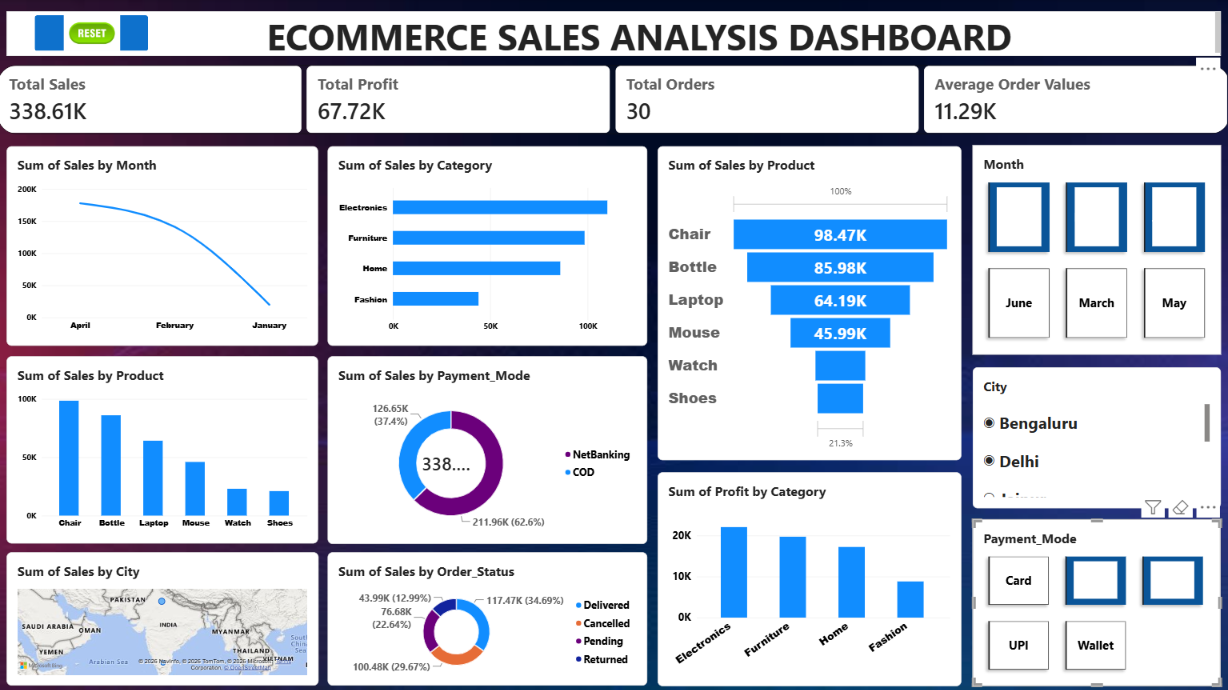

What the dashboard file says about the page in this screenshot:
{"tool":"powerbi","page":{"name":"Page 1","canvas":[1920,1080],"ordinal":0},"visuals":[{"type":"cardVisual","fields":{"Data":["Dax measures.Total Sales","Dax measures.Total Profit","Dax measures.Total Orders","Dax measures.Average Order Values"]},"box":[0,102.9,1920.4,107],"z":0},{"type":"textbox","box":[14.4,18.5,1891.6,70],"z":1000},{"type":"lineChart","title":"Sum of Sales by Month ","fields":{"Category":["public order.Month"],"Y":["Sum(public order.Sales)"]},"box":[14.4,228.5,485.8,310.8],"z":2000},{"type":"barChart","fields":{"Category":["public order.Category"],"Y":["Sum(public order.Sales)"]},"box":[514.6,228.5,498.1,310.8],"z":3000},{"type":"columnChart","fields":{"Category":["public order.Product"],"Y":["Sum(public order.Sales)"]},"box":[14.4,555.7,485.8,292.3],"z":4000},{"type":"map","fields":{"Category":["public order.City"],"Size":["Sum(public order.Sales)"]},"box":[14.4,862.4,486,208],"z":5000},{"type":"donutChart","fields":{"Category":["public order.Payment_Mode"],"Y":["Sum(public order.Sales)"]},"box":[514.6,555.7,498.1,293],"z":6000},{"type":"pieChart","fields":{"Category":["public order.Order_Status"],"Y":["Sum(public order.Sales)"]},"box":[514.6,862.4,498.1,207.9],"z":7000},{"type":"funnel","fields":{"Category":["public order.Product"],"Y":["Sum(public order.Sales)"]},"box":[1029.2,228.5,473.4,489.9],"z":8000},{"type":"columnChart","fields":{"Category":["public order.Category"],"Y":["Sum(public order.Profit)"]},"box":[1029.2,736.9,473.4,333.4],"z":9000},{"type":"advancedSlicerVisual","fields":{"Values":["public order.Month"]},"box":[1520.3,227.7,387,326.3],"z":10000},{"type":"listSlicer","fields":{"Values":["public order.City"]},"box":[1520.3,574.2,387,220.1],"z":11000},{"type":"advancedSlicerVisual","fields":{"Values":["public order.Payment_Mode"]},"box":[1520,811.1,386.1,259.5],"z":12000},{"type":"actionButton","box":[58.2,25.3,177.1,55.7],"z":13000},{"type":"image","box":[3.1,24.9,288.4,56.1],"z":13001}]}

Visuals, with their boxes in screenshot pixels (x1, y1, x2, y2), scaled from the page's 1920x1080 canvas onto the 1228x690 screenshot:
cardVisual - Dax measures.Total Sales x Dax measures.Total Profit: bbox=[0, 66, 1227, 134]
textbox: bbox=[9, 12, 1219, 57]
"Sum of Sales by Month " lineChart: bbox=[9, 146, 320, 345]
barChart - public order.Category x Sum(public order.Sales): bbox=[329, 146, 648, 345]
columnChart - public order.Product x Sum(public order.Sales): bbox=[9, 355, 320, 542]
map - public order.City x Sum(public order.Sales): bbox=[9, 551, 320, 684]
donutChart - public order.Payment_Mode x Sum(public order.Sales): bbox=[329, 355, 648, 542]
pieChart - public order.Order_Status x Sum(public order.Sales): bbox=[329, 551, 648, 684]
funnel - public order.Product x Sum(public order.Sales): bbox=[658, 146, 961, 459]
columnChart - public order.Category x Sum(public order.Profit): bbox=[658, 471, 961, 684]
advancedSlicerVisual - public order.Month: bbox=[972, 145, 1220, 354]
listSlicer - public order.City: bbox=[972, 367, 1220, 507]
advancedSlicerVisual - public order.Payment_Mode: bbox=[972, 518, 1219, 684]
actionButton: bbox=[37, 16, 150, 52]
image: bbox=[2, 16, 186, 52]
